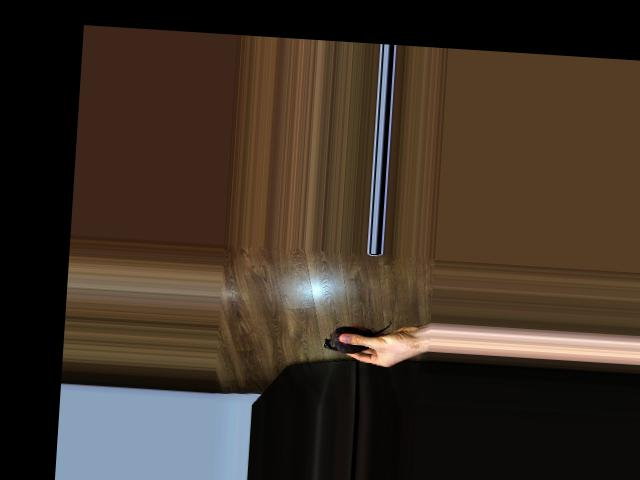beet: (322, 316, 390, 355)
